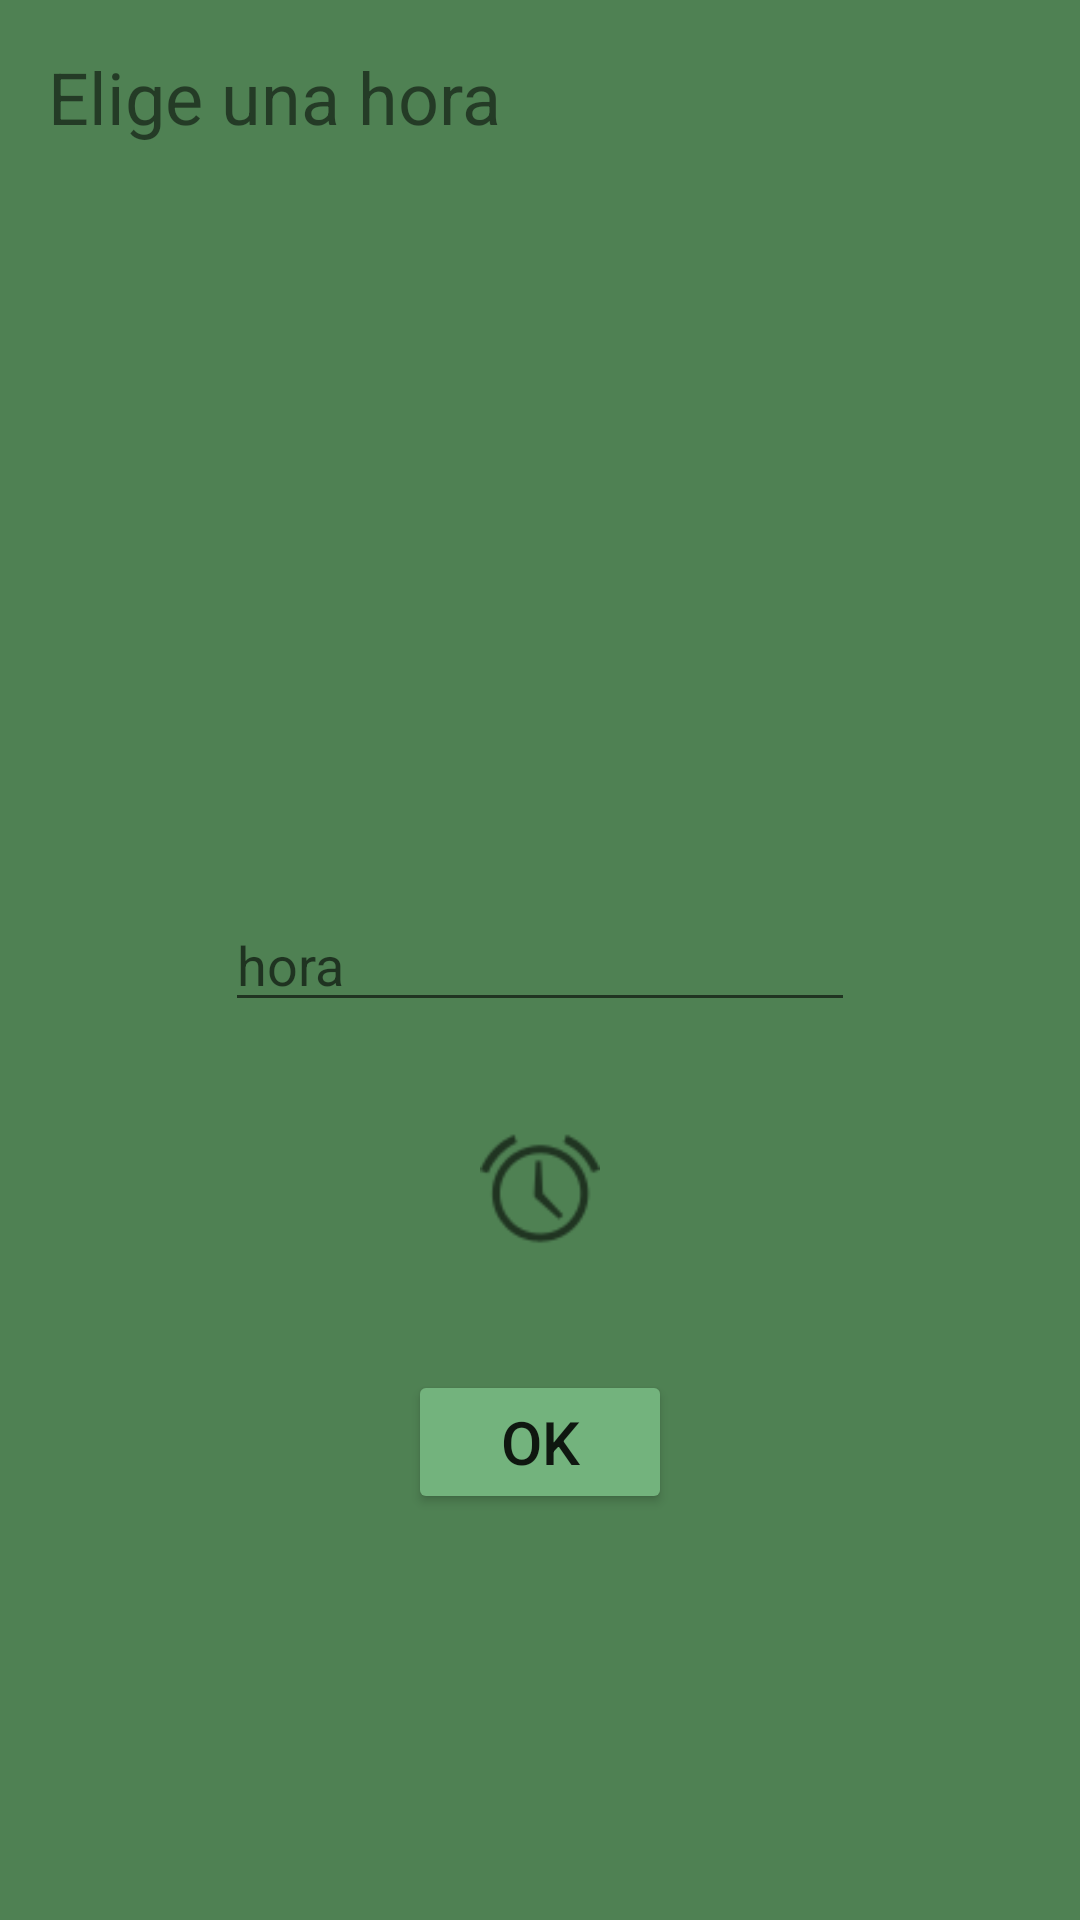

Where icons sit on this 1080 × 1920 app screen, as bbox=[x1, y1, x2, y2]:
lock idle alarm: bbox=[480, 1135, 600, 1242]
